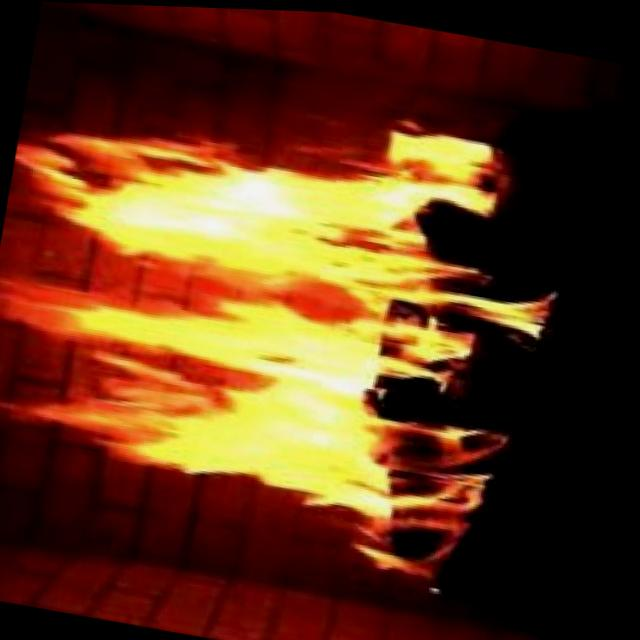helmet: (0, 51, 600, 595)
